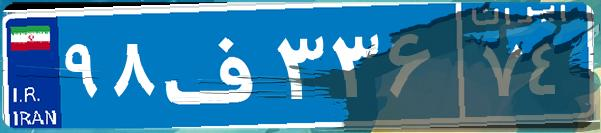3: (273, 28, 330, 110), (330, 28, 385, 110)
4: (525, 38, 570, 115)
6: (385, 28, 445, 110)
7: (475, 38, 525, 113)
8: (110, 28, 158, 105)
9: (57, 26, 110, 107)
ف: (158, 15, 273, 115)
